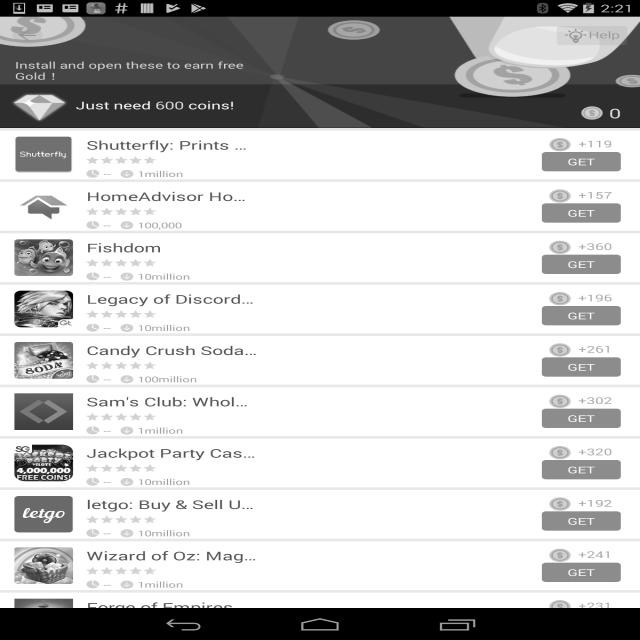Button: (542, 203, 621, 223), (542, 357, 621, 377), (542, 511, 621, 531), (542, 152, 621, 171), (542, 255, 621, 274), (542, 306, 621, 325), (542, 409, 621, 428), (542, 460, 621, 479), (542, 563, 621, 582)
ImageView: (0, 17, 640, 128), (11, 188, 76, 225), (11, 239, 76, 276), (11, 342, 76, 379), (11, 393, 76, 430), (11, 496, 76, 533), (11, 547, 76, 584), (11, 137, 76, 173), (11, 291, 76, 327), (11, 445, 76, 481), (11, 599, 76, 635), (10, 88, 69, 123), (557, 26, 627, 45), (12, 26, 42, 45)
RatingBar: (86, 156, 158, 164), (86, 310, 158, 318), (86, 464, 158, 472), (86, 208, 158, 215), (86, 259, 158, 266), (86, 362, 158, 369), (86, 413, 158, 420), (86, 516, 158, 523), (86, 567, 158, 574)
TextView: (76, 88, 554, 123), (15, 59, 259, 82), (86, 239, 257, 256), (86, 393, 257, 410), (86, 547, 257, 564), (86, 137, 257, 153), (86, 188, 257, 204), (86, 291, 257, 307), (86, 342, 257, 358), (86, 445, 257, 461), (86, 496, 257, 512), (86, 599, 257, 615), (548, 137, 612, 152), (548, 240, 612, 255), (548, 291, 612, 306), (548, 394, 612, 409), (548, 445, 612, 460), (548, 548, 612, 563), (548, 599, 612, 614), (548, 189, 612, 203), (548, 343, 612, 357), (548, 497, 612, 511), (120, 374, 198, 384), (120, 271, 190, 282), (120, 322, 190, 333), (120, 477, 190, 488), (120, 168, 183, 180), (580, 104, 621, 122), (120, 528, 190, 538), (120, 425, 183, 436), (120, 579, 183, 590), (120, 220, 182, 230), (86, 168, 111, 180), (86, 271, 111, 282), (86, 322, 111, 333), (86, 425, 111, 436), (86, 477, 111, 488), (86, 579, 111, 590), (86, 220, 111, 230), (86, 374, 111, 384), (86, 528, 111, 538)
